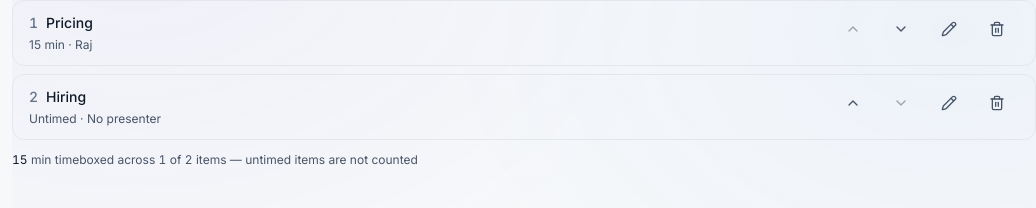
explains a refused write: {"name":"ApiError","status":409,"code":"conflict"}
Step 1. Click the button named "Move \"Pricing\" down" → (901, 29), box [879,13,923,45]
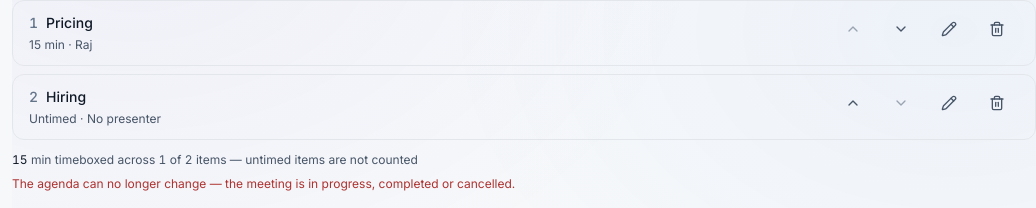
Check: the message shows "in progress, completed or cancelled", box [12,176,515,191]
